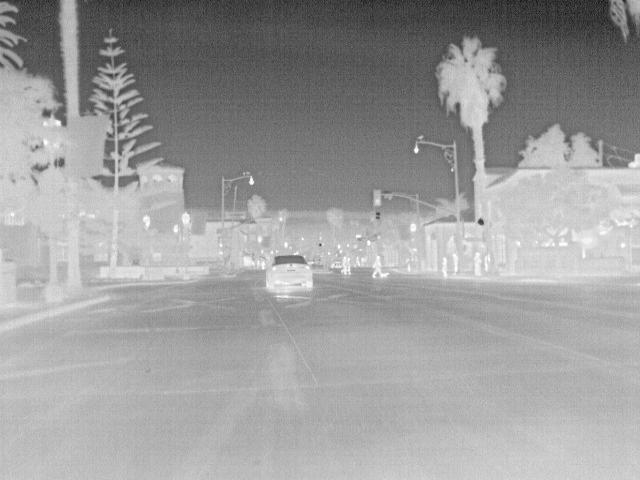car: (266, 254, 316, 292), (331, 257, 346, 270)
dog: (380, 269, 391, 279)
person: (369, 253, 384, 276), (481, 250, 493, 276), (473, 250, 483, 276), (450, 252, 460, 275), (441, 255, 449, 277), (347, 256, 353, 275)
